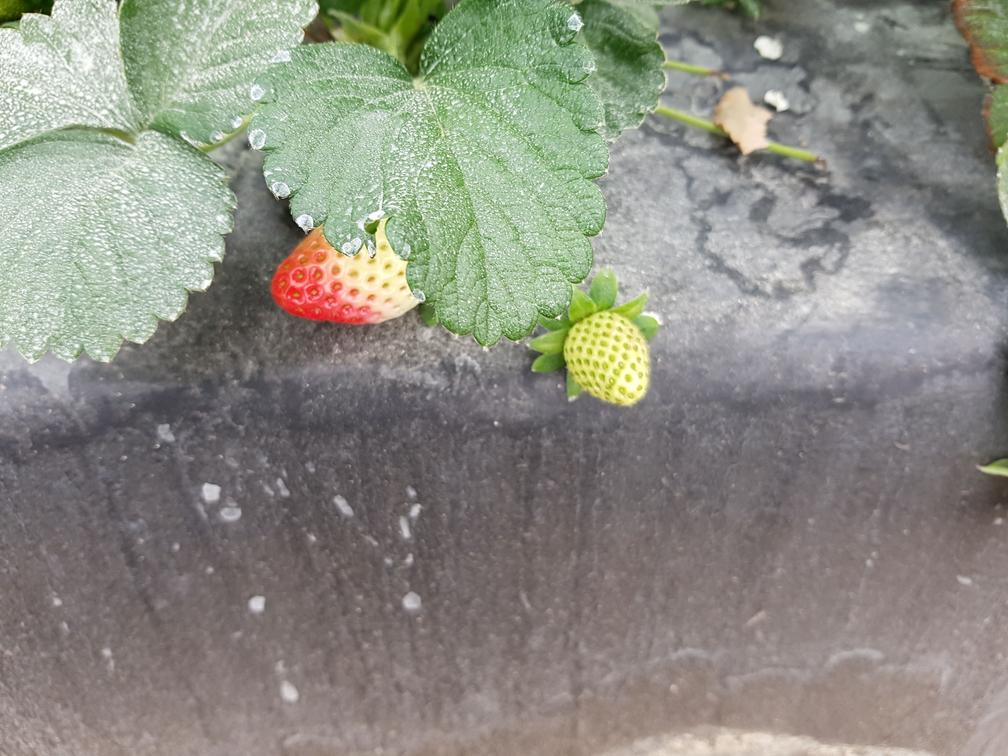Ripe: (265, 206, 415, 326)
Unripe: (564, 308, 659, 406)
